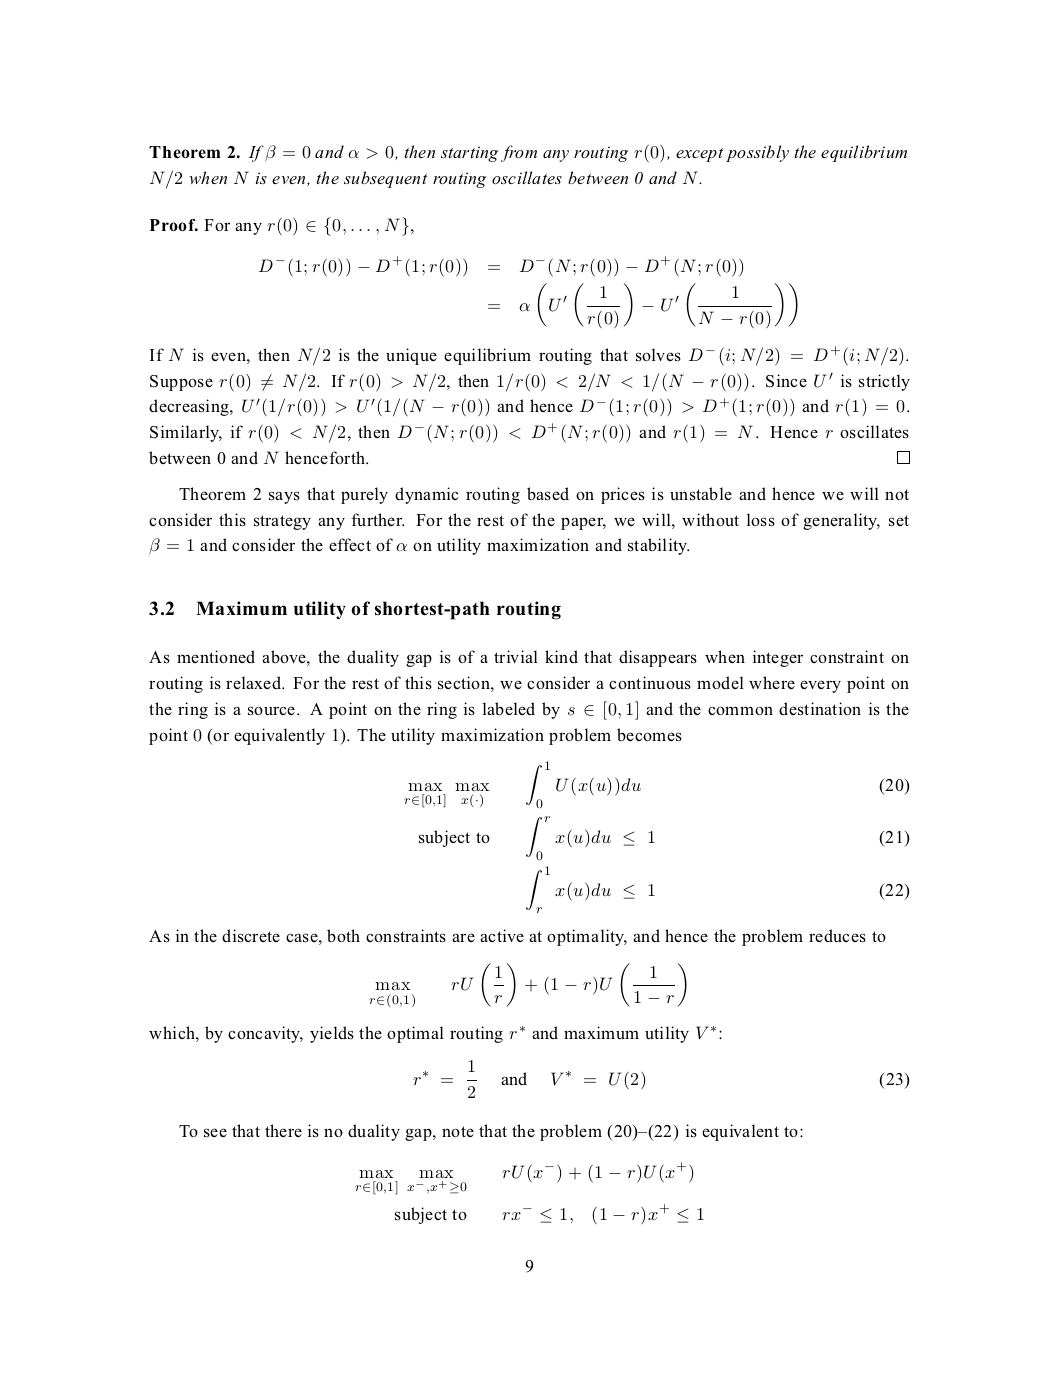formula: (403, 760, 909, 809), (418, 815, 909, 861), (413, 1059, 909, 1098), (526, 865, 909, 913), (369, 962, 687, 1007), (488, 282, 797, 329), (356, 1161, 693, 1195), (257, 255, 743, 277), (395, 1202, 703, 1225)
